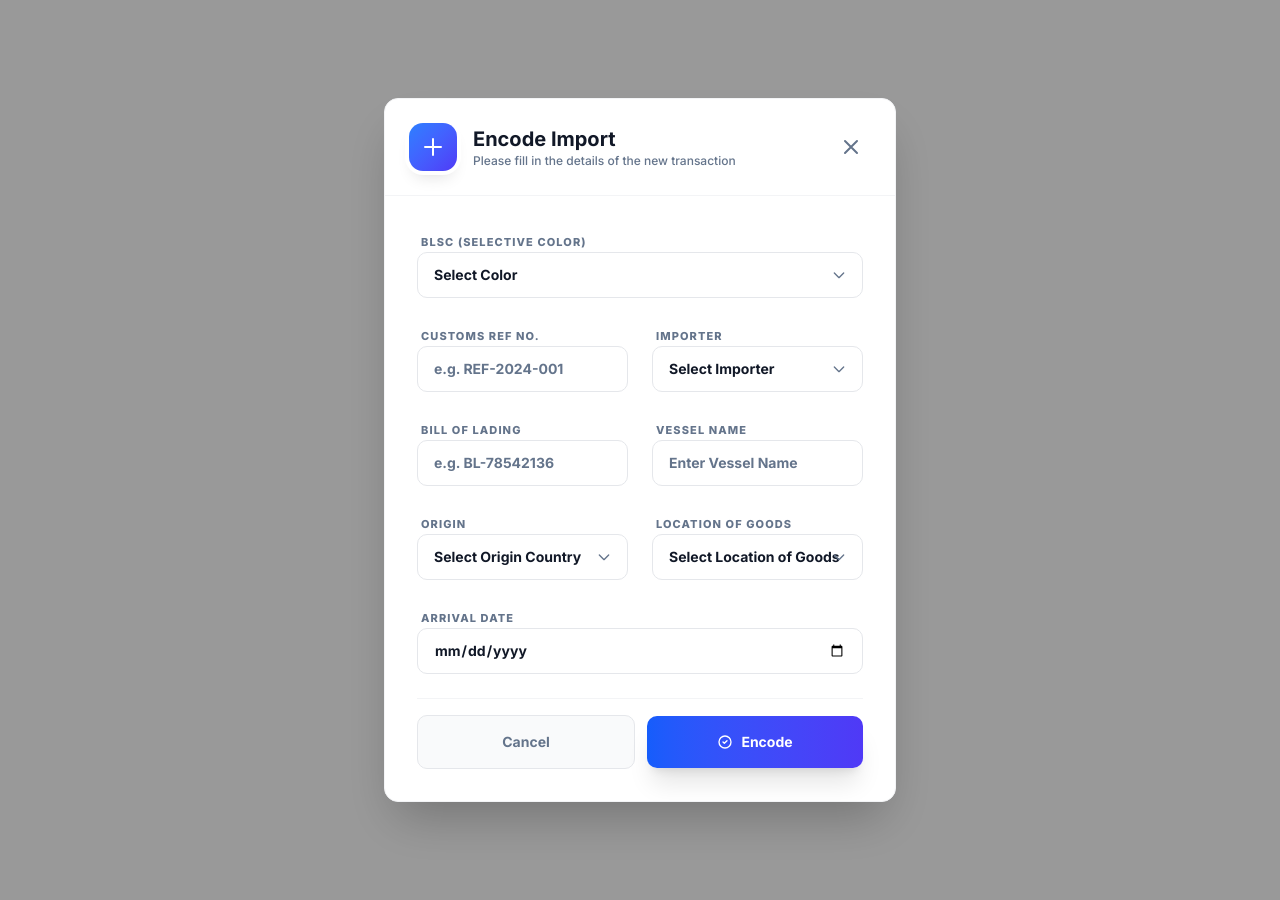
Test case: EncodeModal › shows the backend duplicate message instead of the generic axios status text
Select "Green" in the dropdown labelled "BLSC (Selective Color)" at [640, 275], box x1=417 y1=252 x2=863 y2=298
Type "REF123456" into the field labelled "Customs Ref No.".
click(522, 369); type("REF123456")  # box x1=417 y1=346 x2=628 y2=392
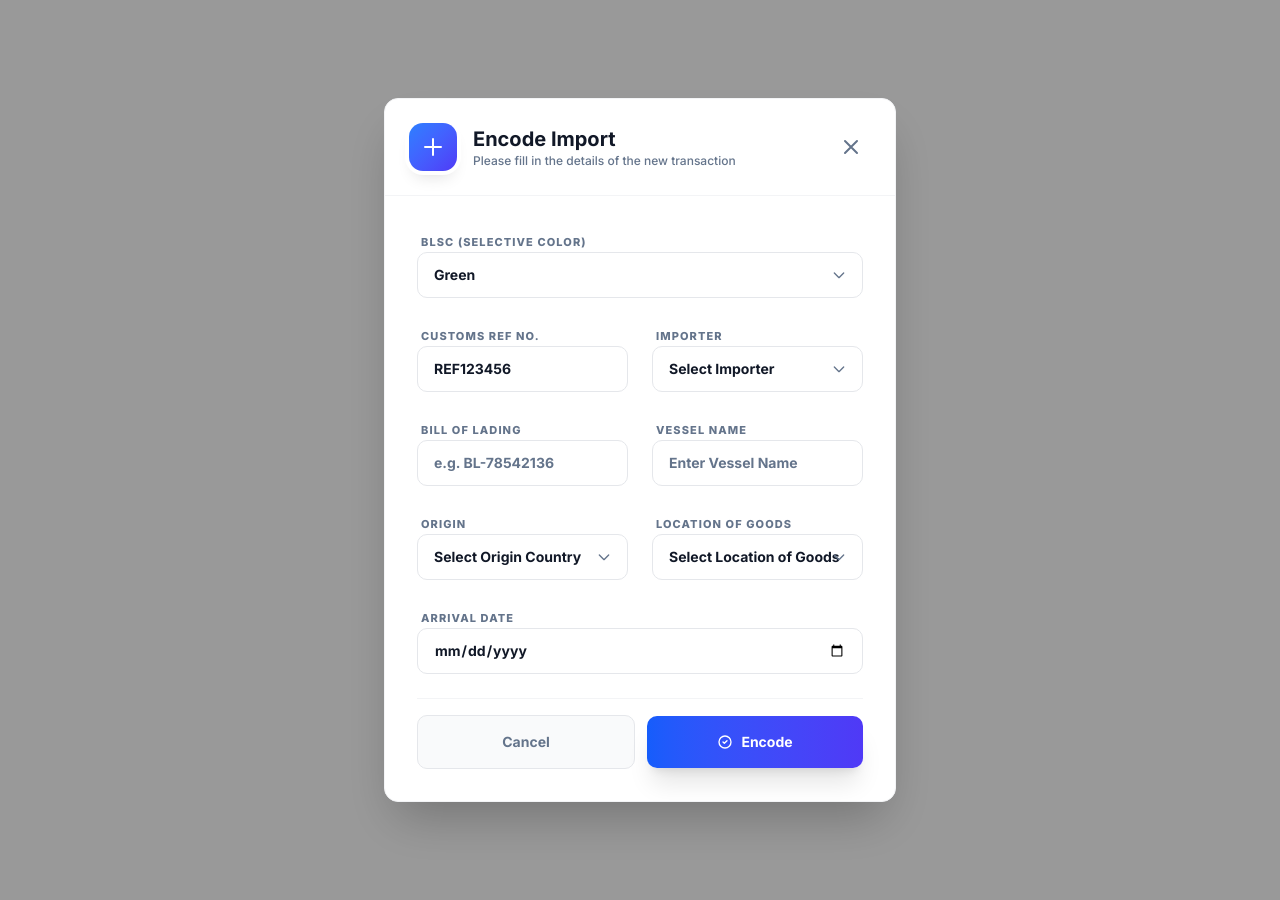
Select "AKTIV MULTI TRADING CORP" in the dropdown labelled "Importer" at [758, 369], box x1=652 y1=346 x2=863 y2=392
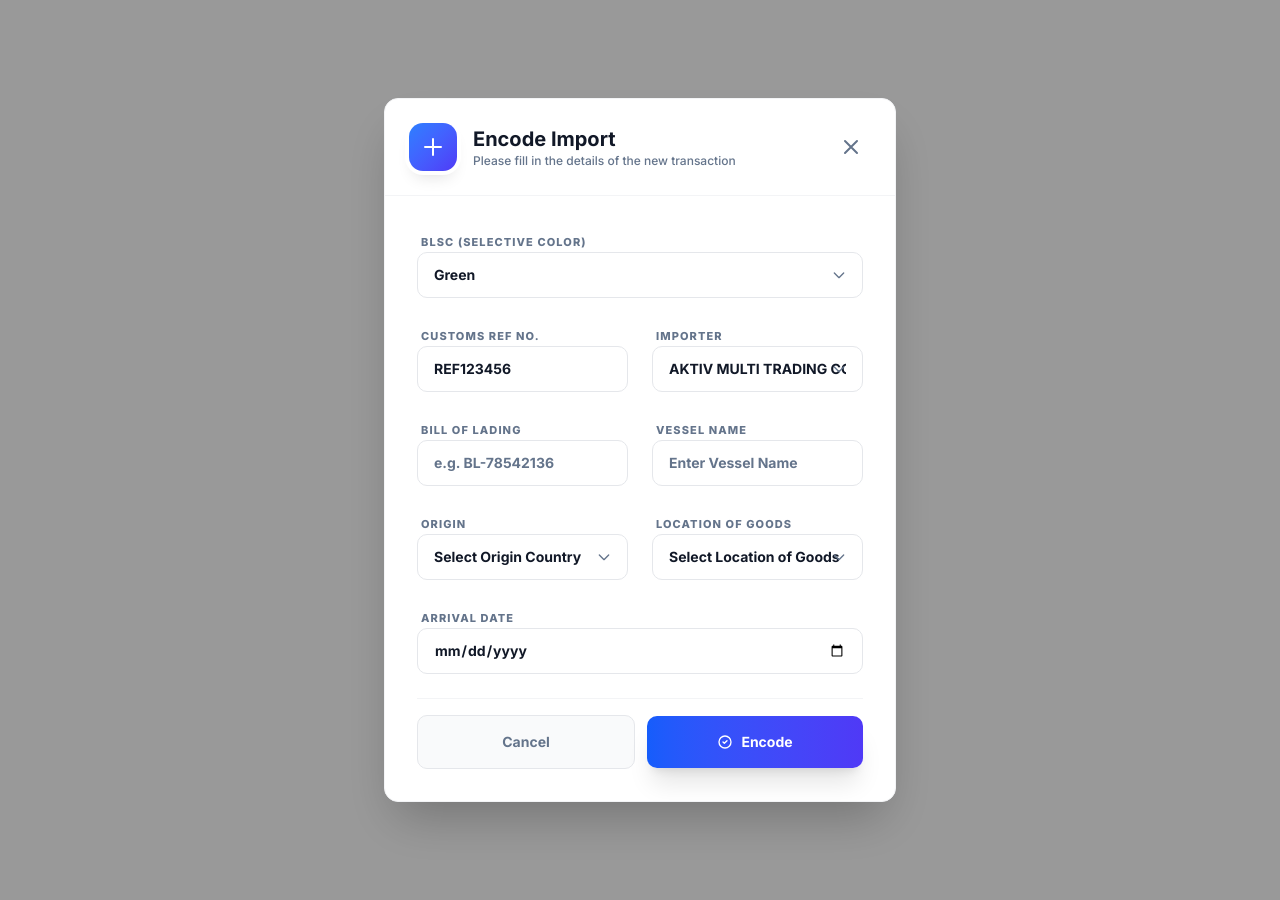
Type "BL123456" into the field labelled "Bill of Lading".
click(522, 463); type("BL123456")  # box x1=417 y1=440 x2=628 y2=486
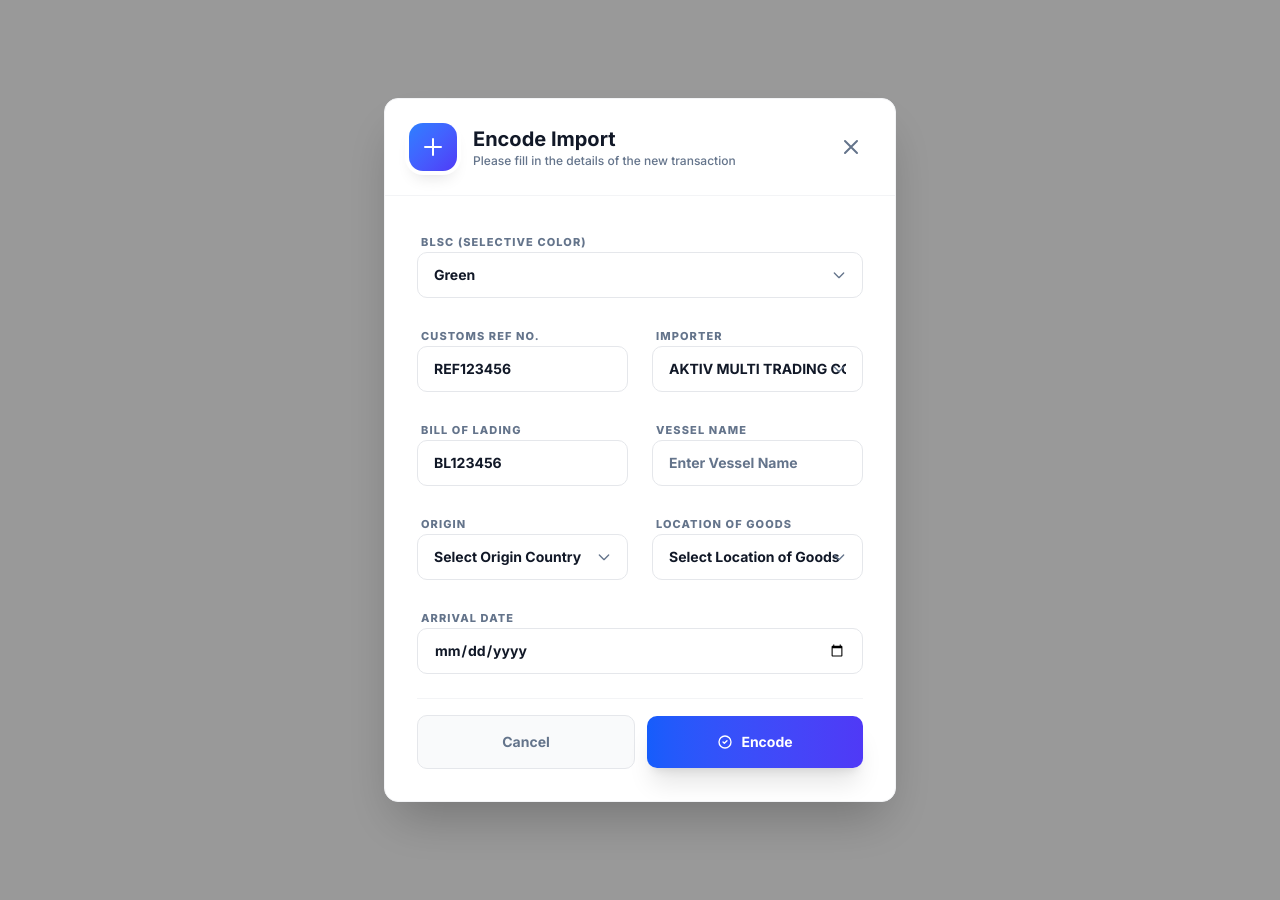
Type "MV Missing Duplicate" into the field labelled "Vessel Name".
click(758, 463); type("MV Missing Duplicate")  # box x1=652 y1=440 x2=863 y2=486
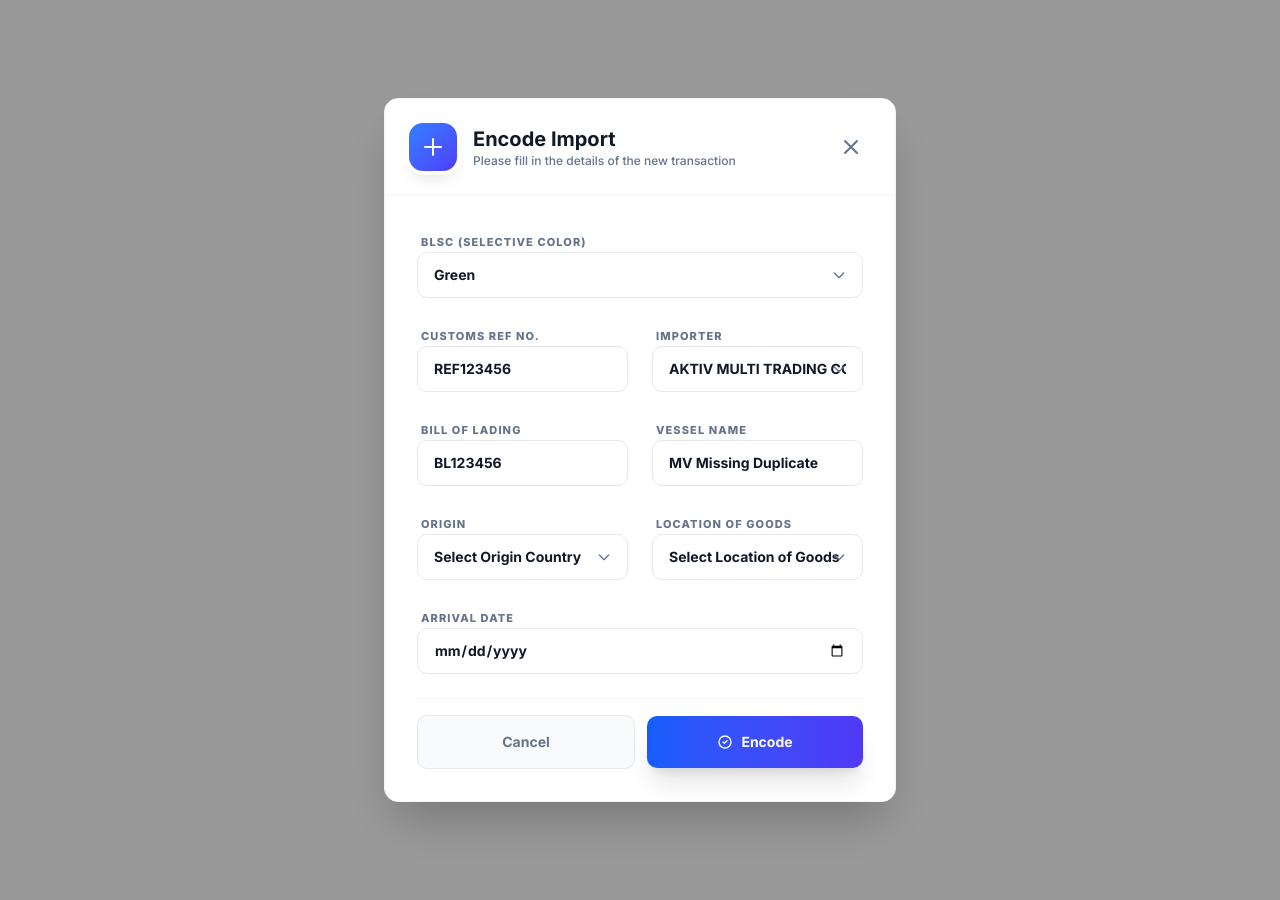
Type "2026-04-09" into the date field labelled "Arrival Date".
click(640, 651); type("2026-04-09")  # box x1=417 y1=628 x2=863 y2=674
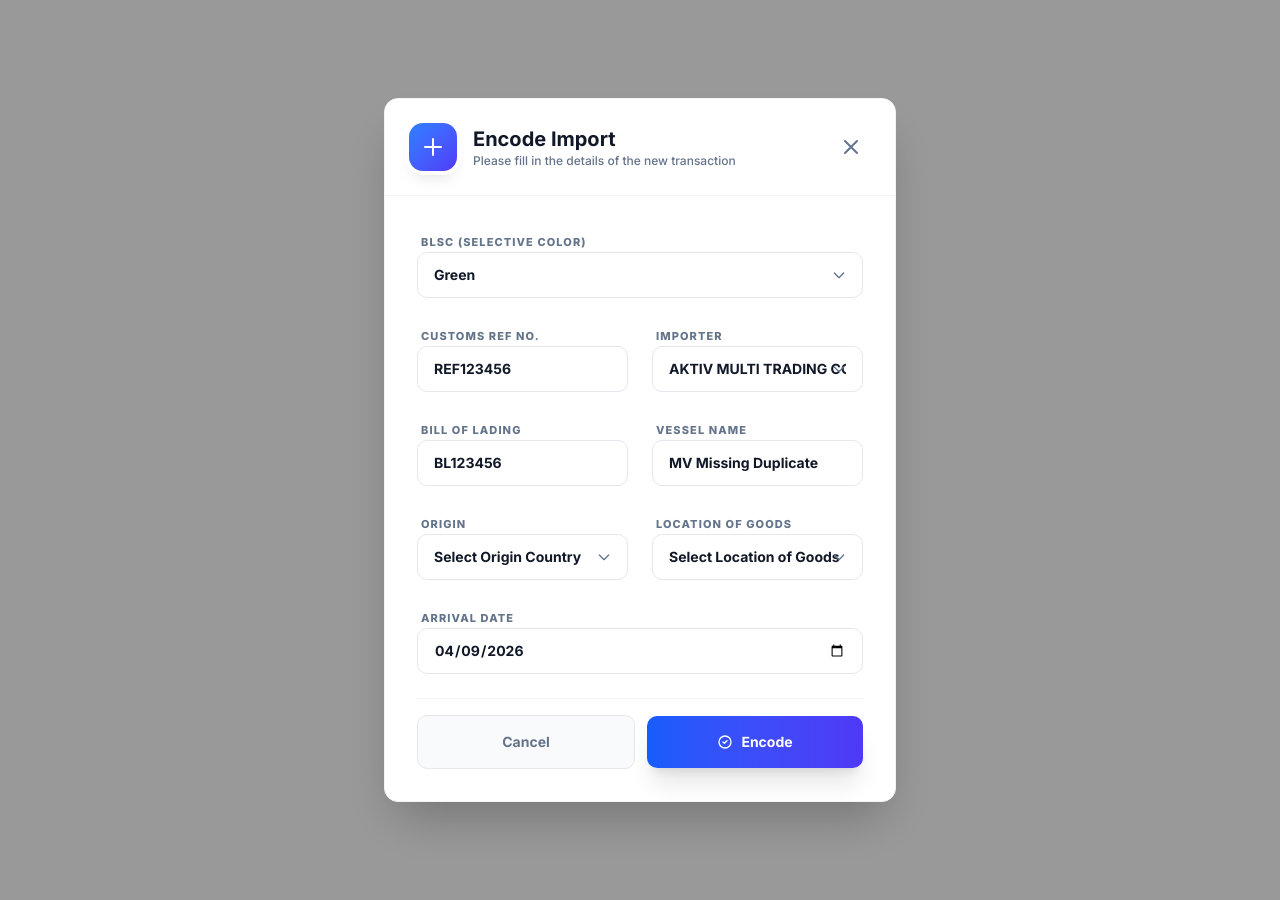
Click the button "Encode".
click(755, 742)  # box x1=647 y1=716 x2=863 y2=768
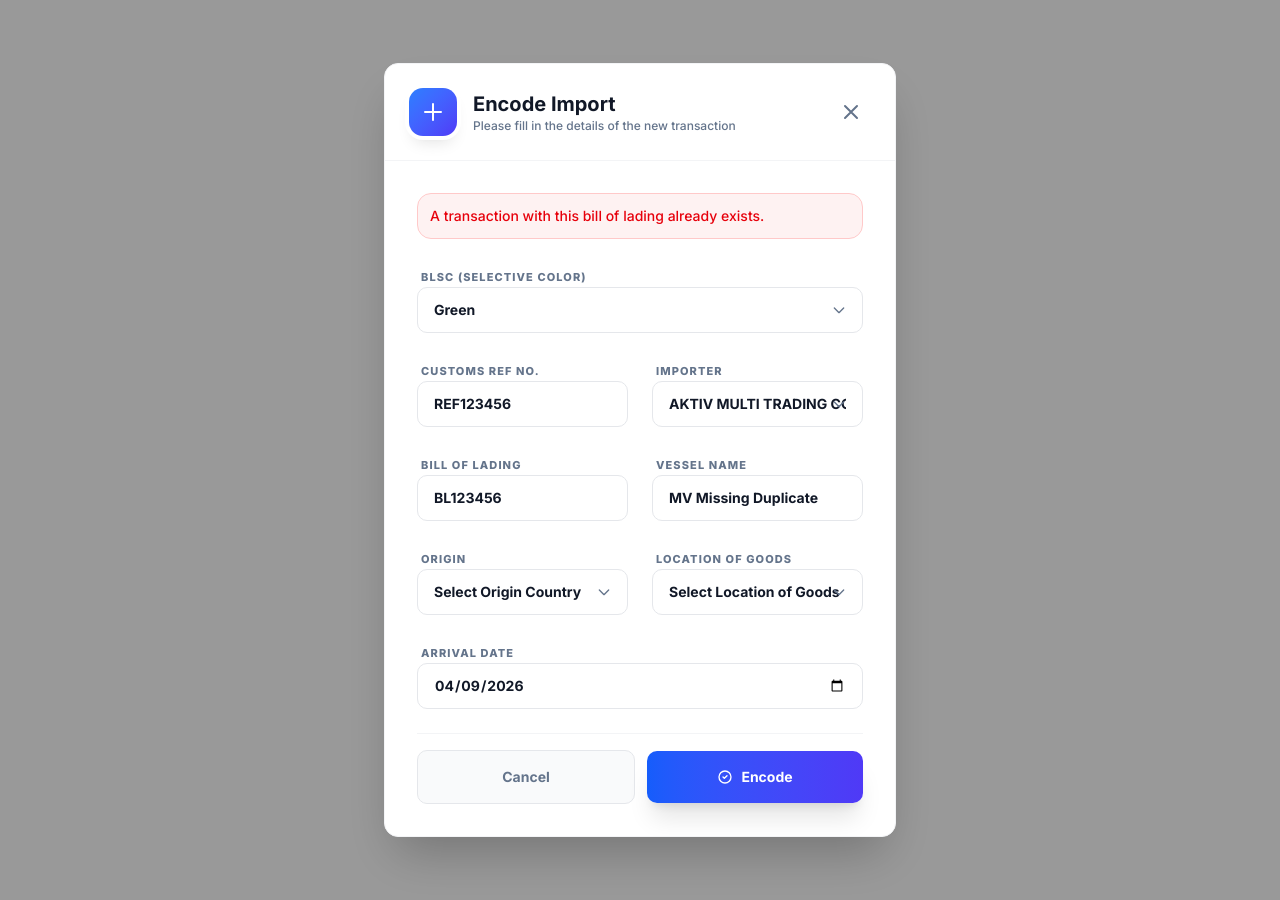
Check: the text "A transaction with this bill of lading already exists." is shown, box x1=417 y1=193 x2=863 y2=239
